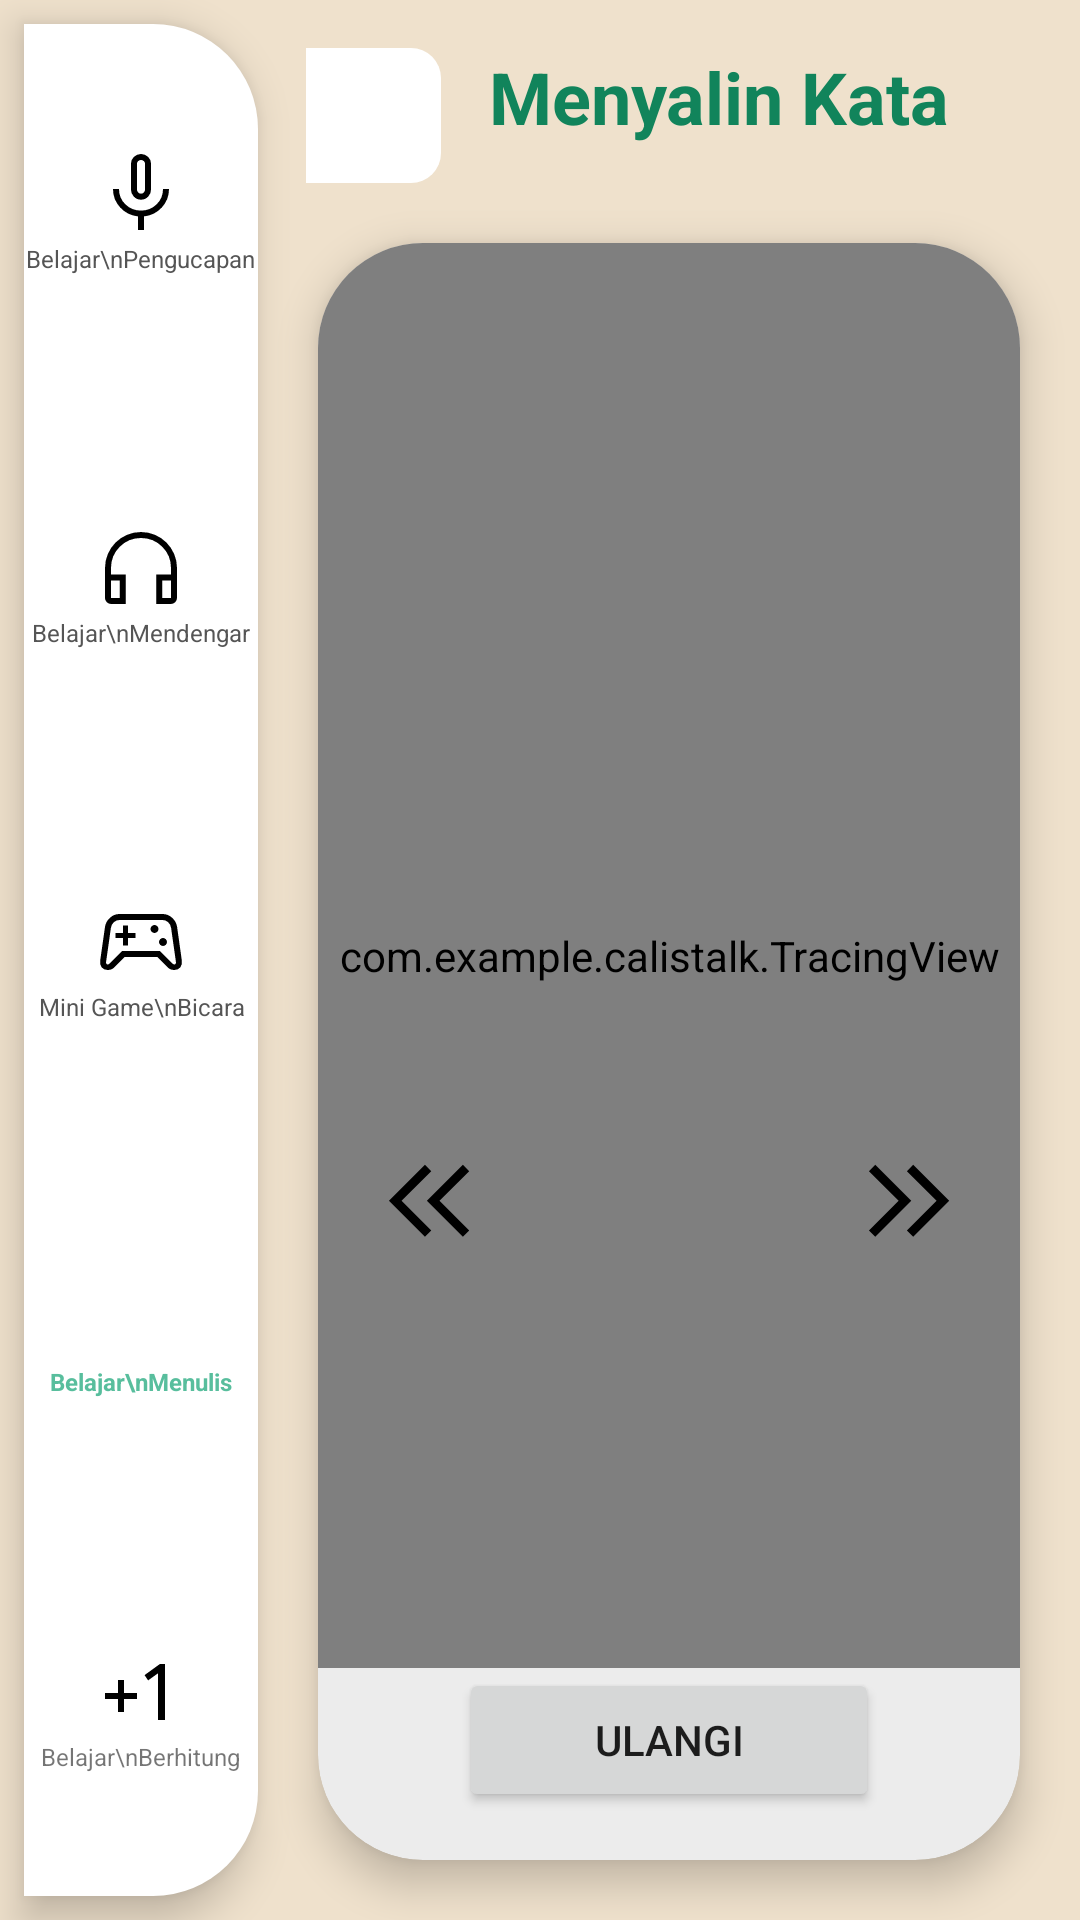

Point at icon controls on the screen. Image size 1080×1920, points as point (x, y).
calculate: point (135, 1692)
double left: point (429, 1201)
double right: point (909, 1201)
headset: point (141, 568)
mic: point (141, 192)
